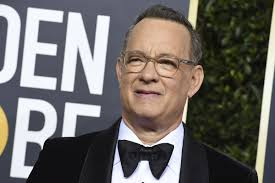without_mask: (115, 45, 200, 118)
